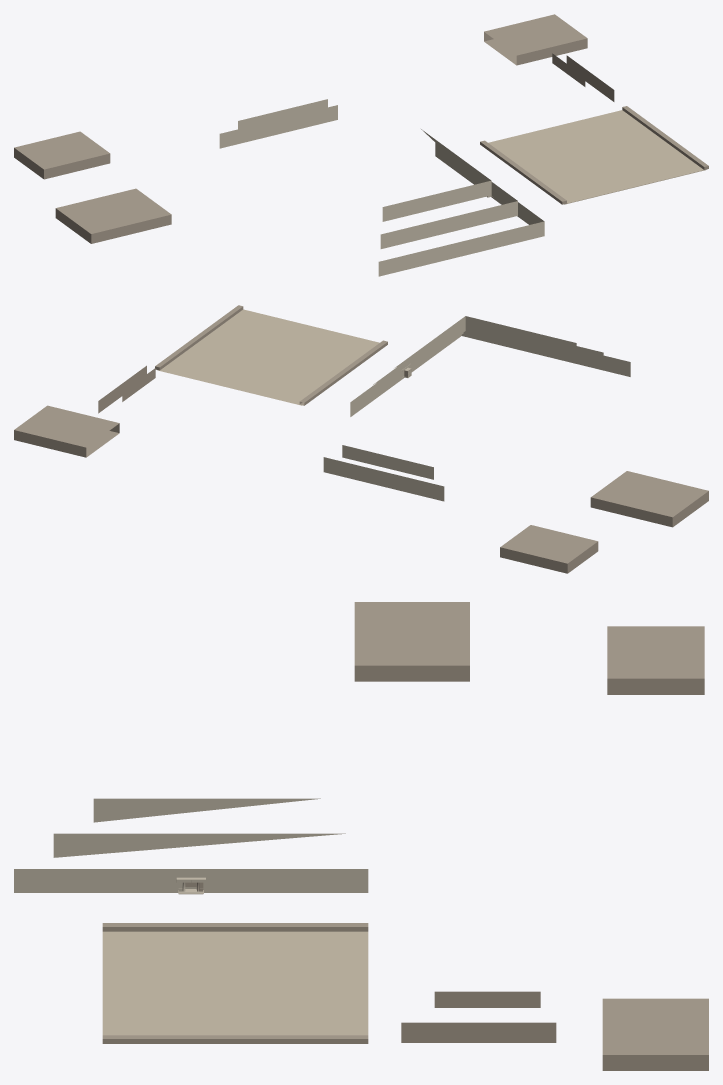
The model's file is chavin_terraces_lod1.glb.
3 views of the same model, one above another, from view 1: azimuth 30°, elevation 25°; view 2: azimuth 150°, elevation 25°; view 3: azimuth 270°, elevation 25° (orthographic). The views are drawn at different scales.
Visible parts, largest first — view 1: chavin_terraces; view 2: chavin_terraces; view 3: chavin_terraces.
Part boxes in pixels (x1,y1,x2,y2): chavin_terraces: (14, 14, 708, 276); chavin_terraces: (14, 305, 708, 573); chavin_terraces: (14, 602, 708, 1070).
Bounding box in the file's own units: 242 × 17.99 × 157.
